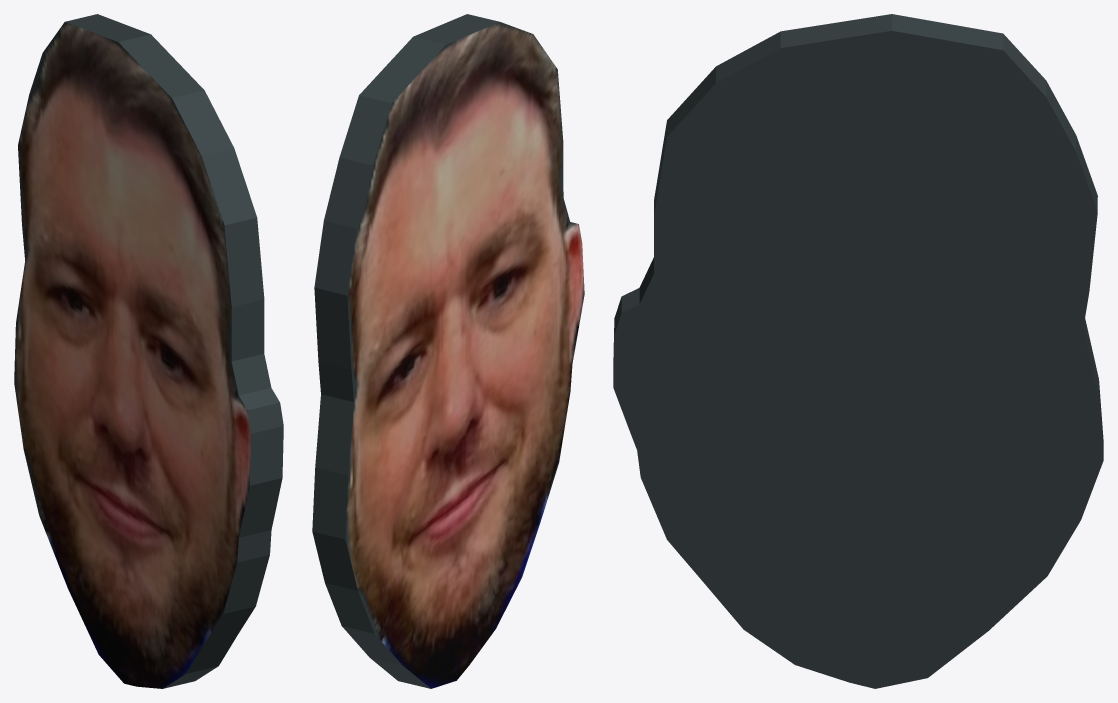
The model's file is Stu'sFaceMask.fbx.
3 renders of one model, left to right at view 1: azimuth 30°, elevation 25°; view 2: azimuth 150°, elevation 25°; view 3: azimuth 270°, elevation 25°, orthographic. The views are drawn at different scales.
Parts seen in each view (by area): view 1: Plane.001; view 2: Plane.001; view 3: Plane.001.
Part boxes in pixels (x1,y1,x2,y2): Plane.001: (14,14,283,688); Plane.001: (312,14,584,688); Plane.001: (613,14,1103,688).
Size of the model in its own units: 5.66 by 92.83 by 62.58.
1 material, 1 textured.
